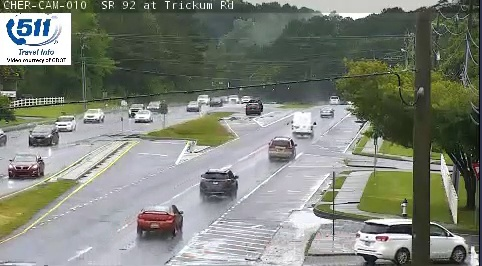car: (137, 206, 183, 231), (199, 170, 238, 196), (268, 138, 295, 158), (320, 107, 333, 117)
van: (291, 112, 313, 136)
